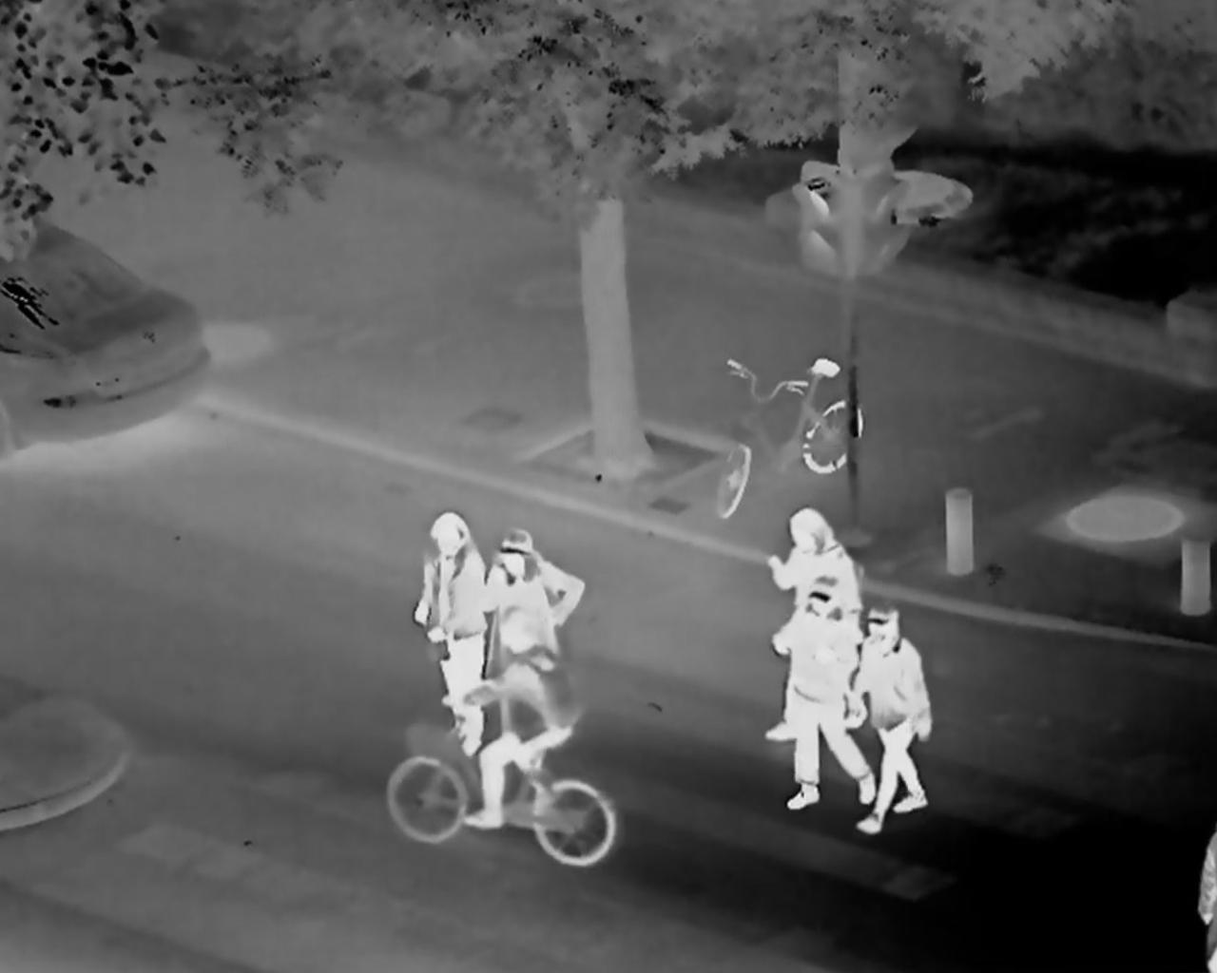person: (438, 607, 585, 835), (753, 511, 868, 743), (769, 579, 879, 818), (476, 525, 589, 747), (415, 508, 493, 764), (857, 604, 937, 847)
